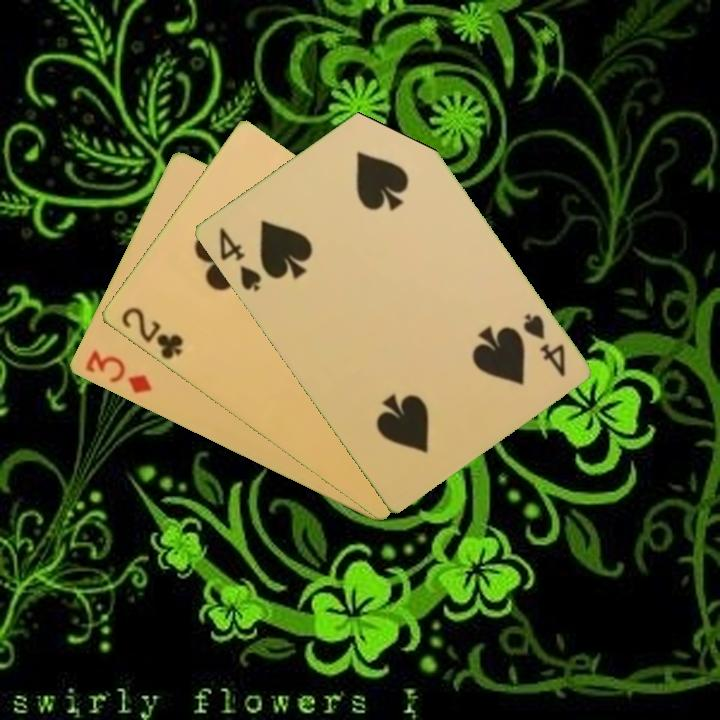2c: (117, 303, 186, 363)
3d: (81, 346, 155, 397)
4s: (214, 223, 264, 294), (518, 309, 568, 380)
